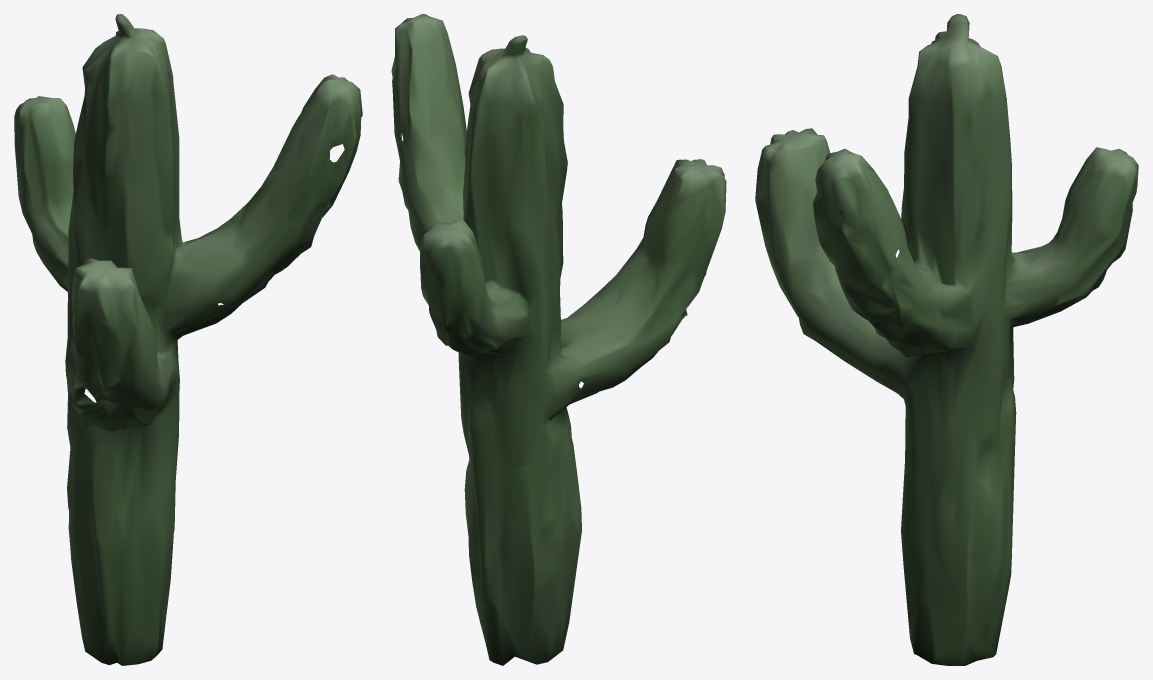
File: cactus_near.glb
3 renders of one model, left to right at view 1: azimuth 30°, elevation 25°; view 2: azimuth 150°, elevation 25°; view 3: azimuth 270°, elevation 25°, orthographic. The views are drawn at different scales.
Parts seen in each view (by area): view 1: cactus; view 2: cactus; view 3: cactus.
Part boxes in pixels (box(x1,y1,x2,y2)): cactus: box(14, 14, 362, 665); cactus: box(391, 14, 726, 665); cactus: box(755, 14, 1138, 665).
Size of the model in its own units: 0.517 by 1 by 0.5463.
